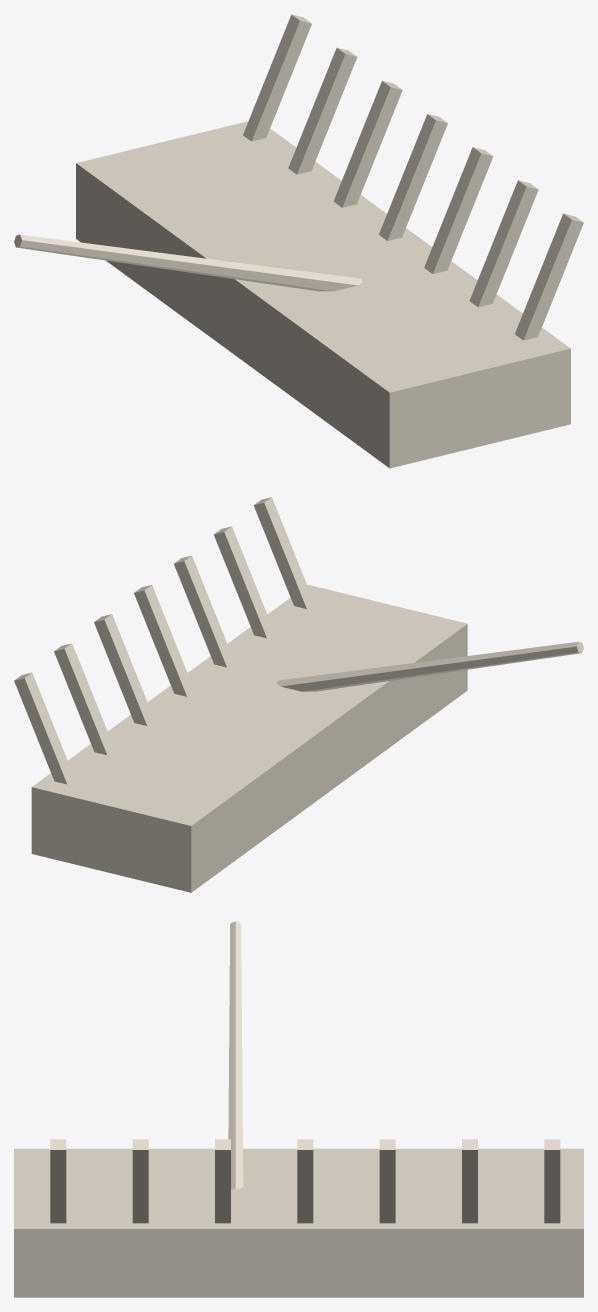
File: wreck.gltf
3 views of the same model, one above another, from view 1: azimuth 30°, elevation 25°; view 2: azimuth 150°, elevation 25°; view 3: azimuth 270°, elevation 25° (orthographic). The views are drawn at different scales.
Visible parts, largest first — view 1: wreck; view 2: wreck; view 3: wreck.
Part boxes in pixels (x1,y1,x2,y2): wreck: [14, 14, 583, 468]; wreck: [14, 497, 583, 892]; wreck: [14, 921, 583, 1297].
Bounding box in the file's own units: 7.72 × 3.25 × 9.
